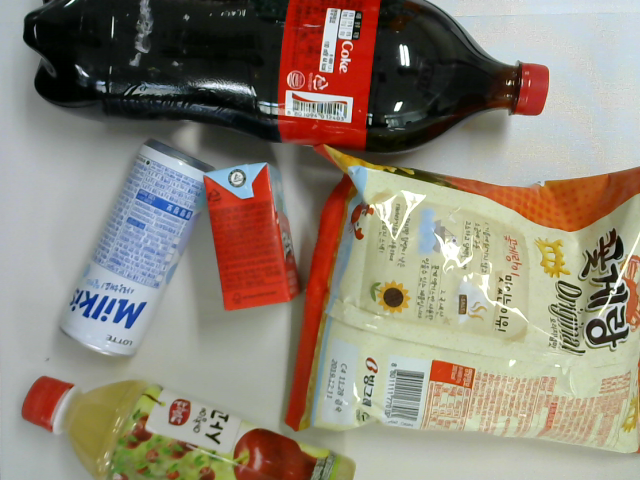Coca_Cola_1.5L: (23, 1, 550, 155)
Crabrang: (284, 145, 640, 455)
Milkies_250ml: (60, 140, 216, 358)
Morning_Apple_500ml: (23, 378, 357, 480)
Picnic_Apple: (202, 162, 305, 310)
